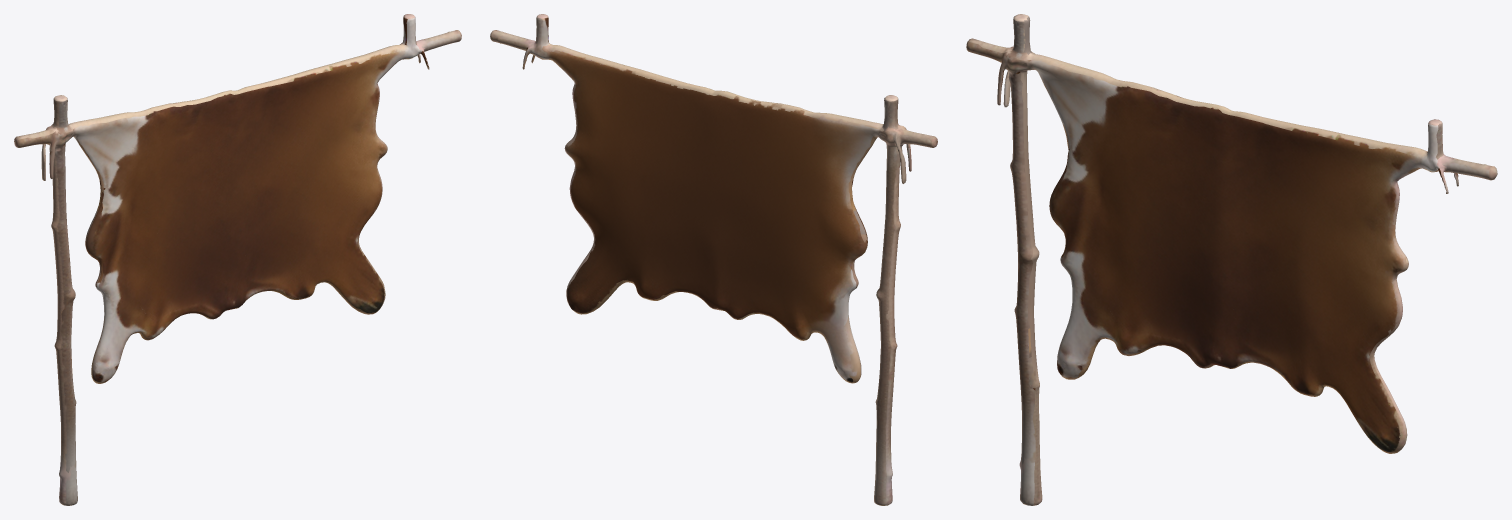
Rendered from cuero.glb.
3 renders of one model, left to right at view 1: azimuth 30°, elevation 25°; view 2: azimuth 150°, elevation 25°; view 3: azimuth 330°, elevation 25°, orthographic. The views are drawn at different scales.
Parts seen in each view (by area): view 1: temp_mesh.ply; view 2: temp_mesh.ply; view 3: temp_mesh.ply.
Boxes of the visible parts, x1,y1,x2,y2 form: temp_mesh.ply: (14,14,461,505); temp_mesh.ply: (490,14,937,505); temp_mesh.ply: (966,14,1497,505).
Size of the model in its own units: 2 by 1.75 by 0.1012.
Materials: 1 (1 with a texture image).
